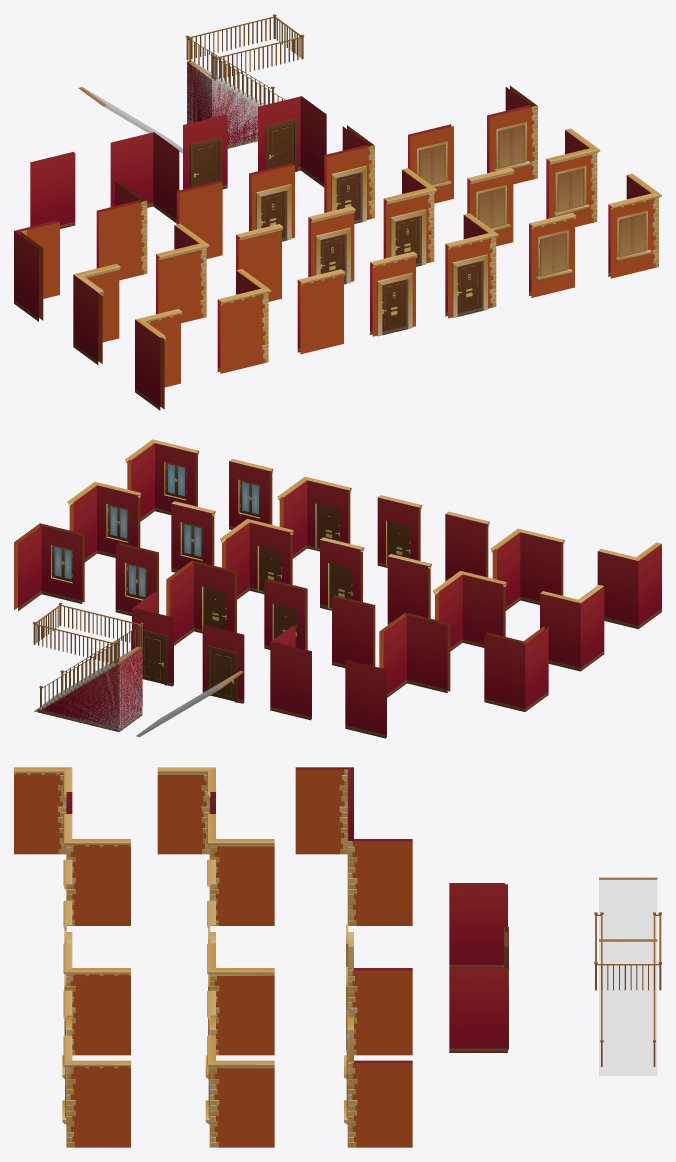
File: Walls02.fbx
3 renders of one model, top to bottom at view 1: azimuth 30°, elevation 25°; view 2: azimuth 150°, elevation 25°; view 3: azimuth 270°, elevation 25°, orthographic. The views are drawn at different scales.
Visible parts, largest first — view 1: IW02_02, OW02_16, OW02_08, OW02_15, OW02_01, IW02_04, OW02_09, OW02_17, OW02_02, IW02_S01, IW02_01, OW02_21 (+28 smaller); view 2: OW02_02, IW02_S01, OW02_01, OW02_07, OW02_15, OW02_08, OW02_16, OW02_09, OW02_21, OW02_05, OW02_14, OW02_19 (+33 smaller); view 3: IW02_S01_Col, OW02_21, OW02_14, OW02_19, OW02_12, OW02_09, OW02_16, OW02_05, OW02_07, IW02_04, OW02_02, IW02_02 (+10 smaller).
Boxes of the visible parts, box(x1,y1,x2,y2) form: IW02_02: box(110, 132, 179, 223); OW02_16: box(217, 269, 271, 373); OW02_08: box(73, 263, 120, 364); OW02_15: box(135, 309, 182, 410); OW02_01: box(14, 220, 59, 321); IW02_04: box(258, 96, 326, 187); OW02_09: box(156, 223, 209, 323); OW02_17: box(297, 269, 344, 354); OW02_02: box(96, 181, 146, 280); IW02_S01: box(187, 61, 259, 148); IW02_01: box(30, 151, 75, 228); OW02_21: box(608, 173, 661, 278); OW02_02: box(379, 612, 450, 697); IW02_S01: box(37, 646, 142, 731); OW02_01: box(484, 626, 548, 711); OW02_07: box(14, 523, 84, 610); OW02_15: box(597, 542, 661, 629); OW02_08: box(540, 585, 604, 671); OW02_16: box(490, 528, 564, 610); OW02_09: box(433, 571, 506, 651); OW02_21: box(125, 439, 199, 521); OW02_05: box(166, 560, 236, 645); OW02_14: box(67, 481, 141, 562); OW02_19: box(277, 476, 351, 558); IW02_S01_Col: box(599, 942, 657, 1075); OW02_21: box(62, 1035, 130, 1147); OW02_14: box(205, 1035, 274, 1147); OW02_19: box(63, 943, 130, 1055); OW02_12: box(207, 943, 274, 1055); OW02_09: box(207, 814, 274, 925); OW02_16: box(63, 814, 130, 925); OW02_05: box(346, 967, 412, 1055); OW02_07: box(344, 1055, 412, 1147); IW02_04: box(449, 967, 508, 1052); OW02_02: box(352, 839, 412, 925); IW02_02: box(449, 883, 507, 966).
Bounding box in the file's own units: 24.04 × 4.24 × 22.17.
